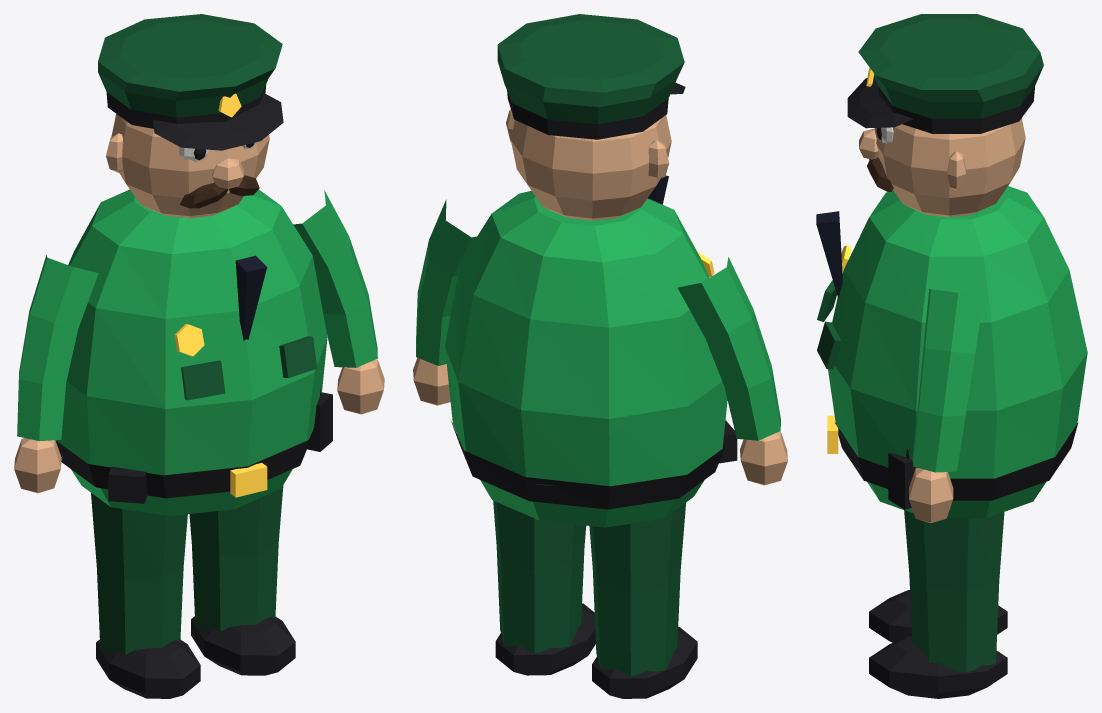
File: cop_1.glb
The picture shows the model from 3 angles, left to right: view 1: azimuth 30°, elevation 25°; view 2: azimuth 150°, elevation 25°; view 3: azimuth 270°, elevation 25°; orthographic projection.
Parts seen in each view (by area): view 1: body_shirt, legs_pants, arms_shirt, cap_pants, legs_black, head_skin, body_black, cap_black, arms_skin, body_pants, body_gold, body_tie (+1 smaller); view 2: body_shirt, legs_pants, cap_pants, arms_shirt, head_skin, body_black, legs_black, arms_skin, cap_black; view 3: body_shirt, cap_pants, legs_pants, head_skin, arms_shirt, legs_black, body_black, cap_black, arms_skin, body_tie, body_pants, body_gold (+1 smaller).
Part boxes in pixels (x1=…): body_shirt: x1=56, y1=189, x2=327, y2=516; legs_pants: x1=91, y1=485, x2=283, y2=654; arms_shirt: x1=17, y1=190, x2=377, y2=441; cap_pants: x1=98, y1=14, x2=282, y2=117; legs_black: x1=96, y1=616, x2=295, y2=698; head_skin: x1=106, y1=114, x2=269, y2=218; body_black: x1=55, y1=388, x2=332, y2=503; cap_black: x1=106, y1=84, x2=283, y2=150; arms_skin: x1=14, y1=359, x2=384, y2=493; body_pants: x1=181, y1=336, x2=316, y2=400; body_gold: x1=174, y1=324, x2=267, y2=497; body_tie: x1=235, y1=255, x2=267, y2=340; body_shirt: x1=445, y1=191, x2=727, y2=527; legs_pants: x1=493, y1=500, x2=685, y2=676; cap_pants: x1=497, y1=14, x2=684, y2=124; arms_shirt: x1=416, y1=199, x2=780, y2=440; head_skin: x1=506, y1=109, x2=671, y2=220; body_black: x1=450, y1=419, x2=737, y2=509; legs_black: x1=495, y1=603, x2=697, y2=698; arms_skin: x1=413, y1=358, x2=787, y2=485; cap_black: x1=507, y1=82, x2=685, y2=139; body_shirt: x1=828, y1=186, x2=1087, y2=518; cap_pants: x1=858, y1=14, x2=1043, y2=118; legs_pants: x1=904, y1=510, x2=1004, y2=672; head_skin: x1=859, y1=118, x2=1025, y2=217; arms_shirt: x1=912, y1=289, x2=983, y2=472; legs_black: x1=869, y1=590, x2=1007, y2=698; body_black: x1=835, y1=422, x2=1078, y2=509; cap_black: x1=847, y1=77, x2=1034, y2=133; arms_skin: x1=909, y1=468, x2=953, y2=522; body_tie: x1=816, y1=211, x2=842, y2=298; body_pants: x1=817, y1=280, x2=841, y2=369; body_gold: x1=827, y1=245, x2=851, y2=453.
Size of the model in its own units: 1.17 by 1.88 by 0.7454.
